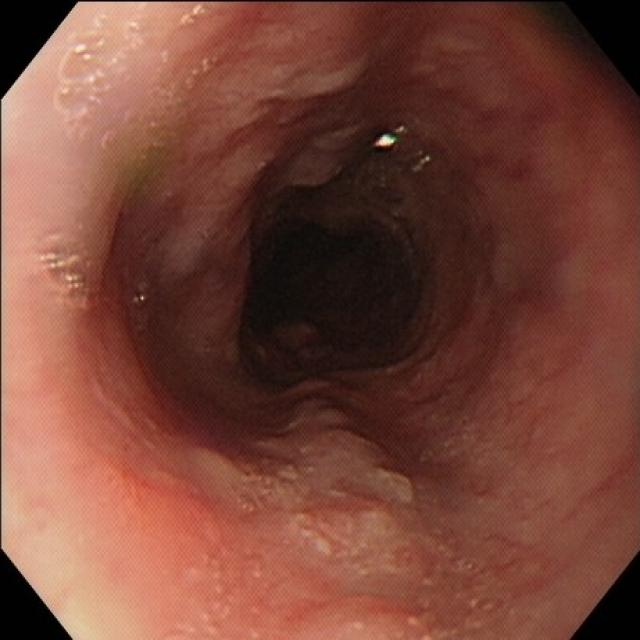A: (158, 55, 363, 269), (273, 372, 415, 577), (177, 437, 266, 506)
E: (243, 212, 429, 375)
T: (53, 28, 124, 132), (39, 229, 92, 311)
U: (374, 135, 398, 147)
